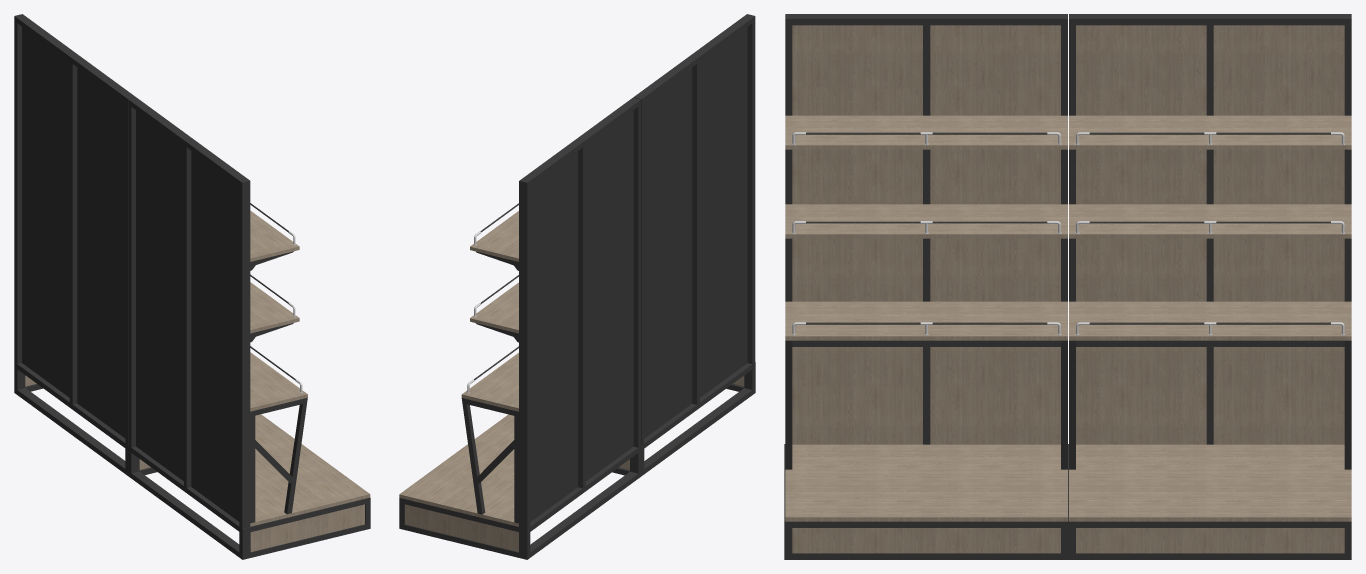
File: SM_粮油架001.fbx
The picture shows the model from 3 angles, left to right: view 1: azimuth 30°, elevation 25°; view 2: azimuth 150°, elevation 25°; view 3: azimuth 270°, elevation 25°; orthographic projection. The views are drawn at different scales.
Visible parts, largest first — view 1: SM_粮油架001; view 2: SM_粮油架001; view 3: SM_粮油架001.
Part boxes in pixels (bbox=[...]): SM_粮油架001: bbox=[14, 14, 370, 559]; SM_粮油架001: bbox=[399, 14, 755, 559]; SM_粮油架001: bbox=[784, 14, 1351, 559].
Size of the model in its own units: 75.8 by 213 by 234.
